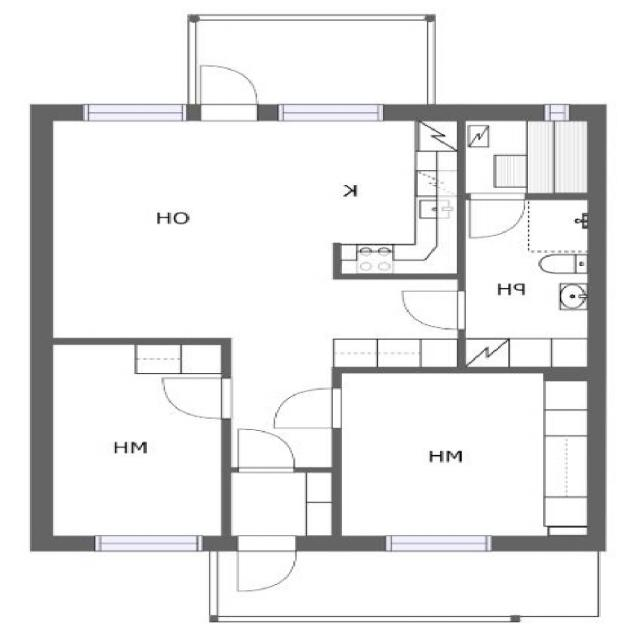door: (237, 536, 296, 591), (201, 66, 257, 120), (162, 378, 231, 418), (273, 388, 341, 428), (238, 429, 294, 473), (469, 193, 524, 237), (403, 291, 465, 329)
